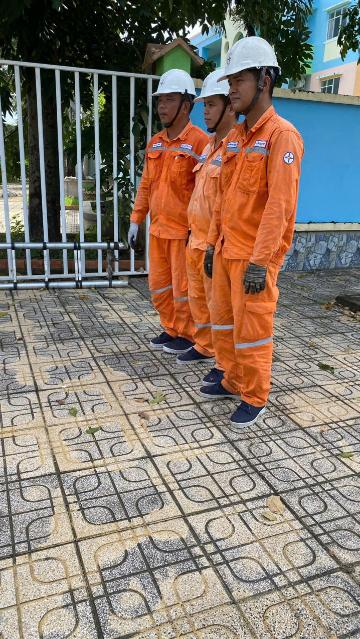gloves: (239, 261, 273, 303), (115, 222, 146, 251), (204, 241, 222, 282)
helmet: (223, 28, 292, 80), (148, 62, 196, 104), (195, 60, 232, 106)
shoes: (220, 396, 274, 428), (191, 376, 247, 398), (143, 310, 175, 347), (171, 342, 220, 366), (164, 326, 195, 355), (191, 362, 232, 379)
